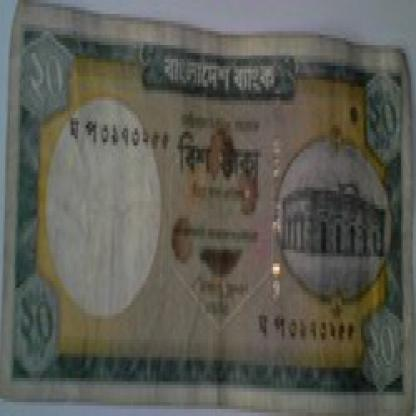Twenty: (172, 125, 266, 208), (8, 267, 65, 378), (344, 305, 410, 395), (27, 31, 82, 135), (354, 80, 406, 156)
